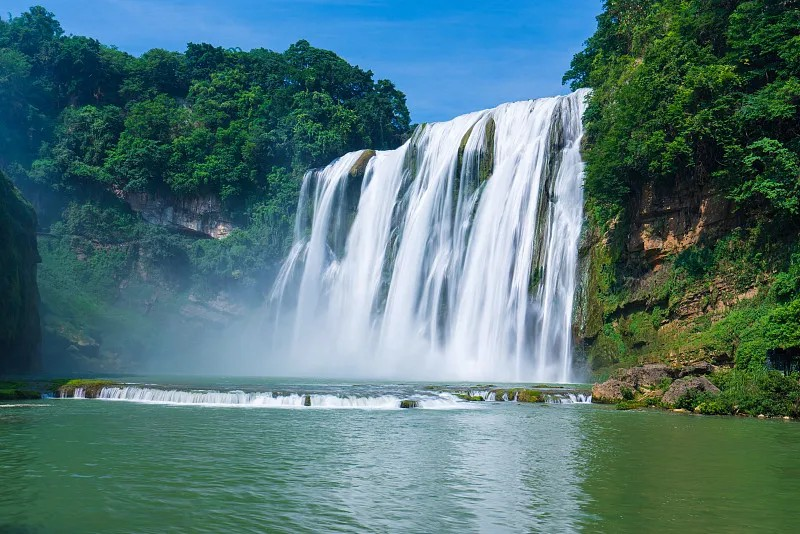Huangguoshu: (266, 88, 584, 385)
